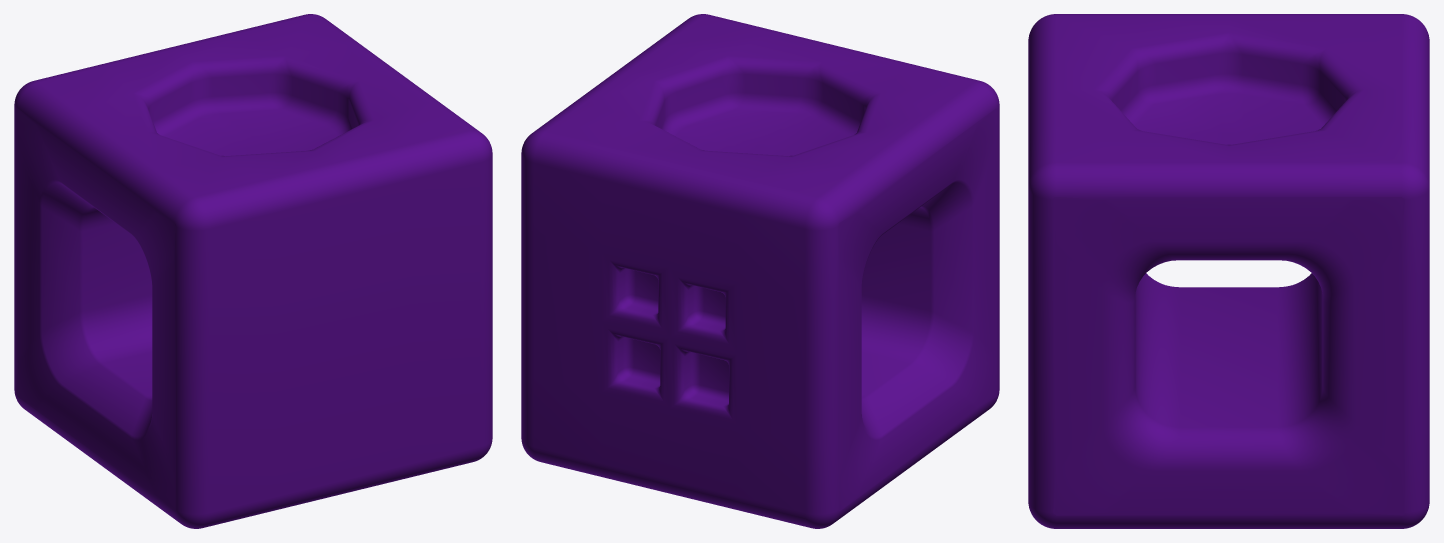
Rendered from SoftHardSurface_Matcube.gltf.
3 renders of one model, left to right at view 1: azimuth 30°, elevation 25°; view 2: azimuth 150°, elevation 25°; view 3: azimuth 270°, elevation 25°, orthographic. The views are drawn at different scales.
Visible parts, largest first — view 1: Cube; view 2: Cube; view 3: Cube.
Part boxes in pixels (x1=…): Cube: x1=14, y1=14, x2=492, y2=528; Cube: x1=521, y1=14, x2=999, y2=528; Cube: x1=1028, y1=14, x2=1429, y2=528.
Bounding box in the file's own units: 2 × 2 × 2.
